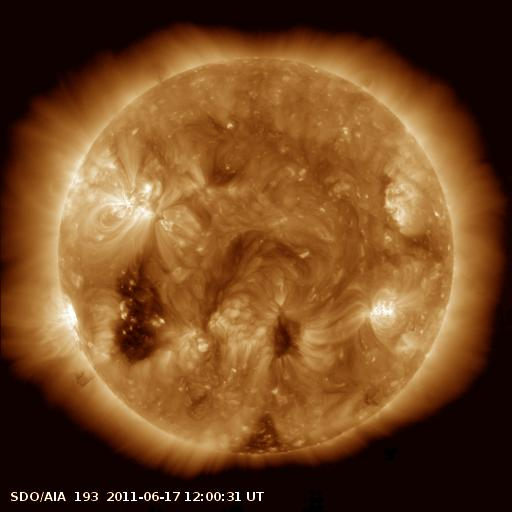coronal_hole: (105, 260, 178, 368), (227, 412, 300, 458)
